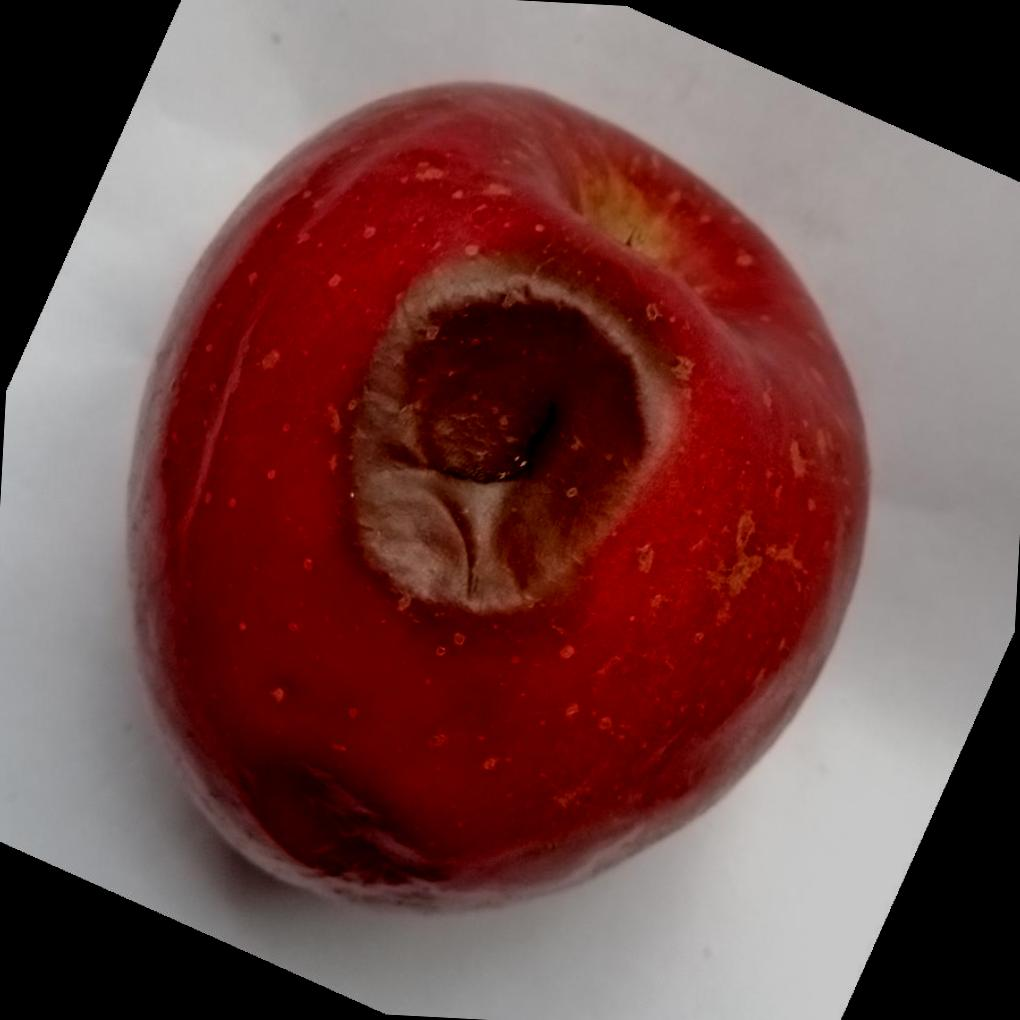FreshOrange: (118, 79, 871, 920)
